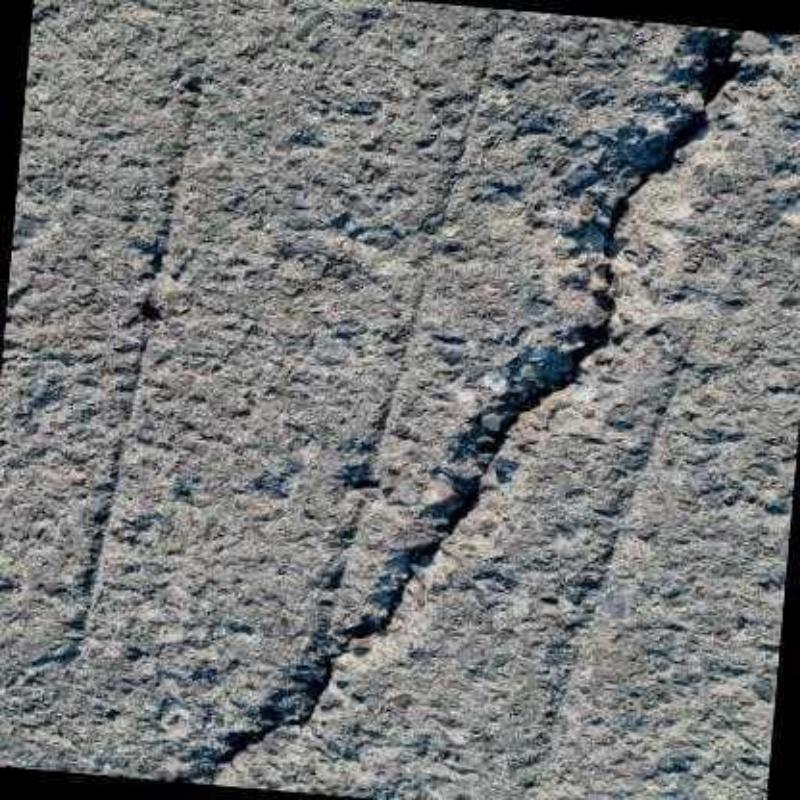pothole: (177, 200, 629, 788), (623, 29, 752, 204)
